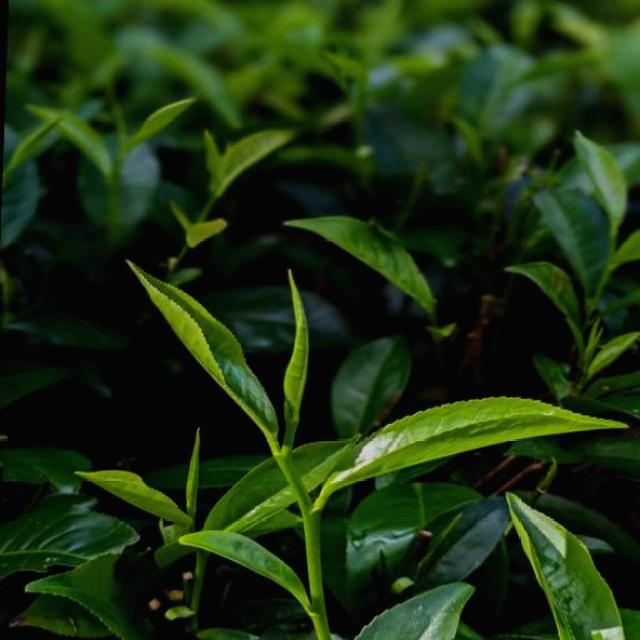Stem: (279, 459, 305, 493), (601, 268, 610, 283)
